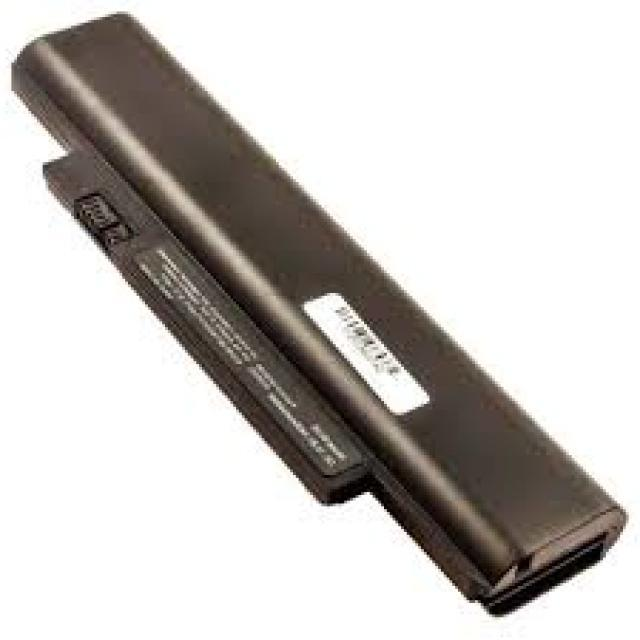battery: (0, 18, 627, 618)
